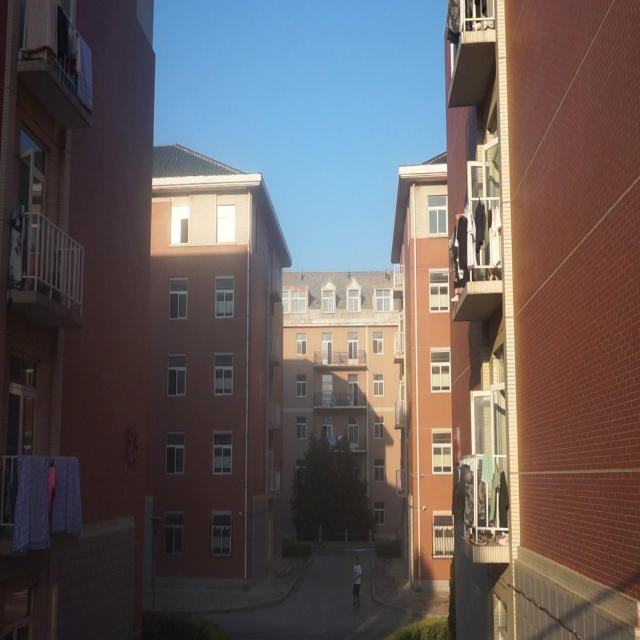UAV: (328, 399, 336, 409)
